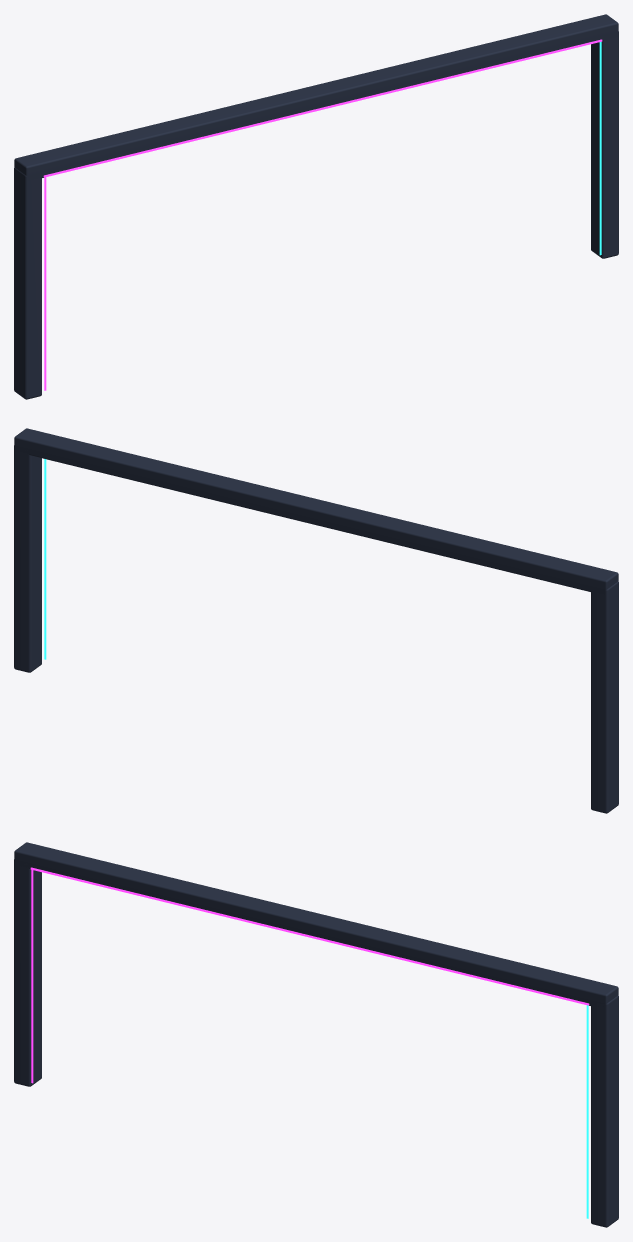
The model's file is Module_Gate.fbx.
3 renders of one model, top to bottom at view 1: azimuth 30°, elevation 25°; view 2: azimuth 150°, elevation 25°; view 3: azimuth 330°, elevation 25°, orthographic.
Visible parts, largest first — view 1: Portal crossbeam, Portal pillar, Portal pillar.001, Portal top LED, Portal light, Portal light.001; view 2: Portal crossbeam, Portal pillar, Portal pillar.001, Portal light.001; view 3: Portal crossbeam, Portal pillar.001, Portal pillar, Portal top LED, Portal light.001, Portal light.
Part boxes in pixels (left/top/right/bottom): Portal crossbeam: left=14, top=14, right=618, bottom=180; Portal pillar: left=14, top=167, right=41, bottom=399; Portal pillar.001: left=591, top=31, right=618, bottom=258; Portal top LED: left=43, top=39, right=602, bottom=177; Portal light: left=44, top=177, right=46, bottom=390; Portal light.001: left=599, top=41, right=601, bottom=255; Portal crossbeam: left=14, top=428, right=618, bottom=594; Portal pillar: left=591, top=581, right=618, bottom=813; Portal pillar.001: left=14, top=445, right=41, bottom=672; Portal light.001: left=44, top=459, right=46, bottom=659; Portal crossbeam: left=14, top=842, right=618, bottom=1008; Portal pillar.001: left=591, top=995, right=618, bottom=1227; Portal pillar: left=14, top=859, right=41, bottom=1086; Portal top LED: left=30, top=867, right=589, bottom=1005; Portal light.001: left=586, top=1005, right=588, bottom=1218; Portal light: left=31, top=869, right=33, bottom=1083.
Size of the model in its own units: 22.05 by 8.28 by 0.84.
